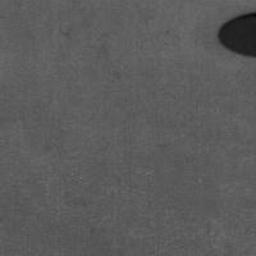Punching: (218, 12, 256, 58)
